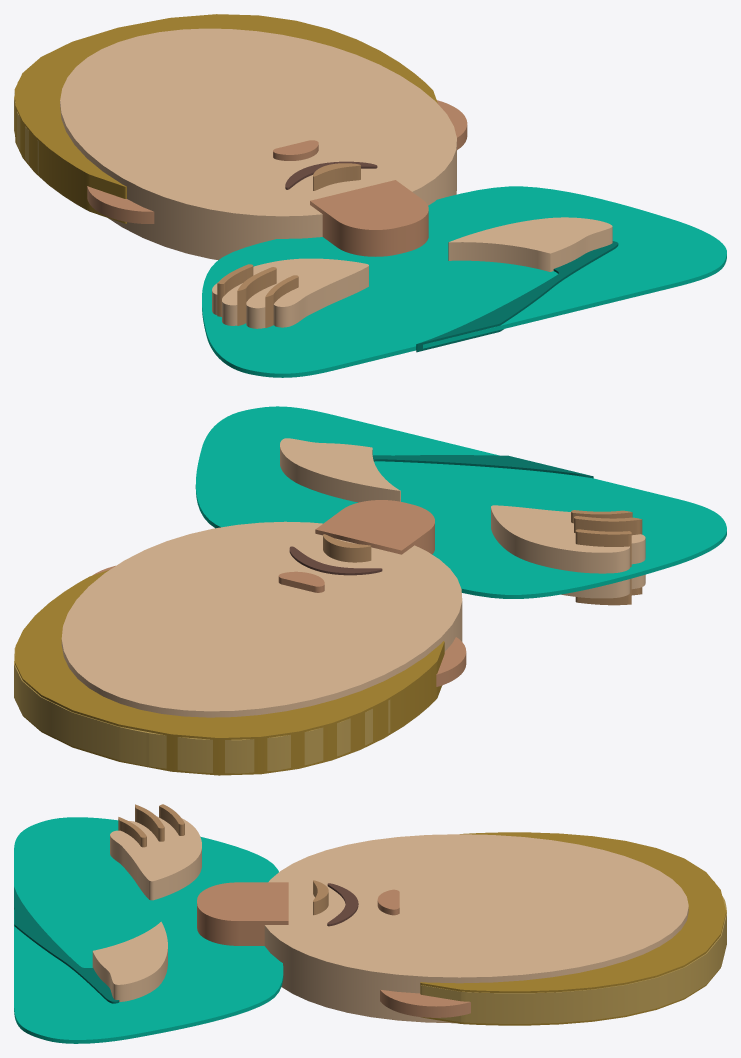
File: emoji_u1f64e_1f3fc_200d_2642.glb
3 views of the same model, one above another, from view 1: azimuth 30°, elevation 25°; view 2: azimuth 150°, elevation 25°; view 3: azimuth 270°, elevation 25° (orthographic). The views are drawn at different scales.
Parts seen in each view (by area): view 1: emoji_u1f64e_1f3fc_200d_2642; view 2: emoji_u1f64e_1f3fc_200d_2642; view 3: emoji_u1f64e_1f3fc_200d_2642.
Boxes of the visible parts, x1,y1,x2,y2 form: emoji_u1f64e_1f3fc_200d_2642: (14,14,726,377); emoji_u1f64e_1f3fc_200d_2642: (14,406,726,775); emoji_u1f64e_1f3fc_200d_2642: (14,804,726,1043).
Bounding box in the file's own units: 0.025 × 0.0038 × 0.0339.
